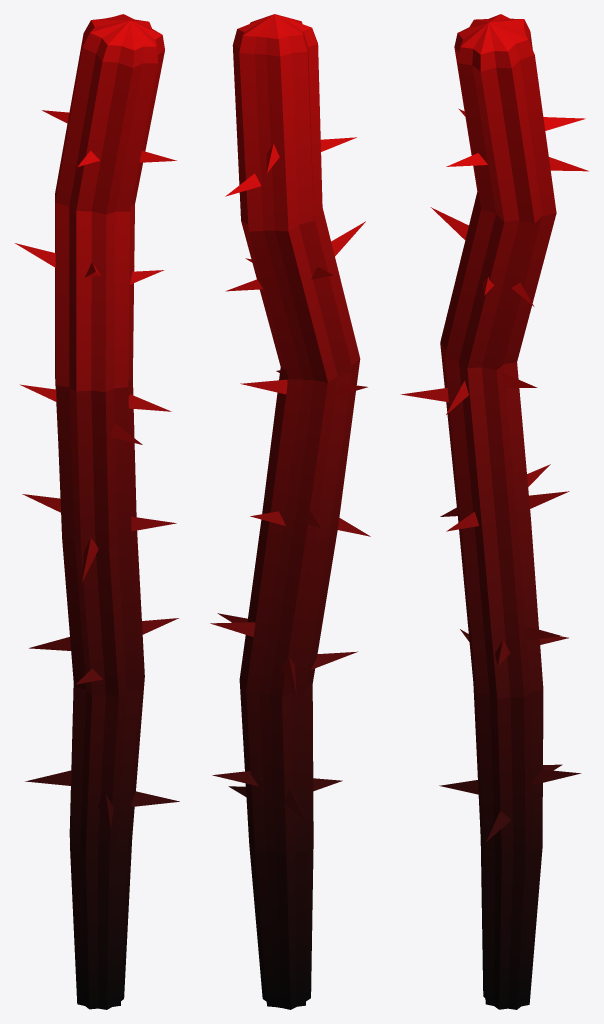
File: TreeCactusTall09.fbx
The picture shows the model from 3 angles, left to right: view 1: azimuth 30°, elevation 25°; view 2: azimuth 150°, elevation 25°; view 3: azimuth 270°, elevation 25°; orthographic projection.
Parts seen in each view (by area): view 1: TreeCactusTall09_LOD0; view 2: TreeCactusTall09_LOD0; view 3: TreeCactusTall09_LOD0.
Boxes of the visible parts, bbox=[...] form: TreeCactusTall09_LOD0: bbox=[15, 14, 179, 1009]; TreeCactusTall09_LOD0: bbox=[210, 14, 370, 1009]; TreeCactusTall09_LOD0: bbox=[400, 14, 588, 1009].
Size of what is drawn, in the model's own units: 63.52 by 380 by 66.09.
